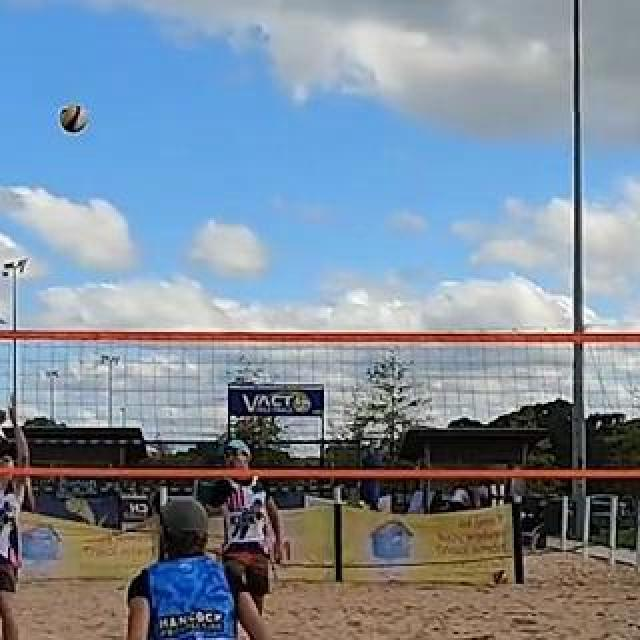volleyball: (59, 106, 87, 134), (491, 568, 509, 586)
